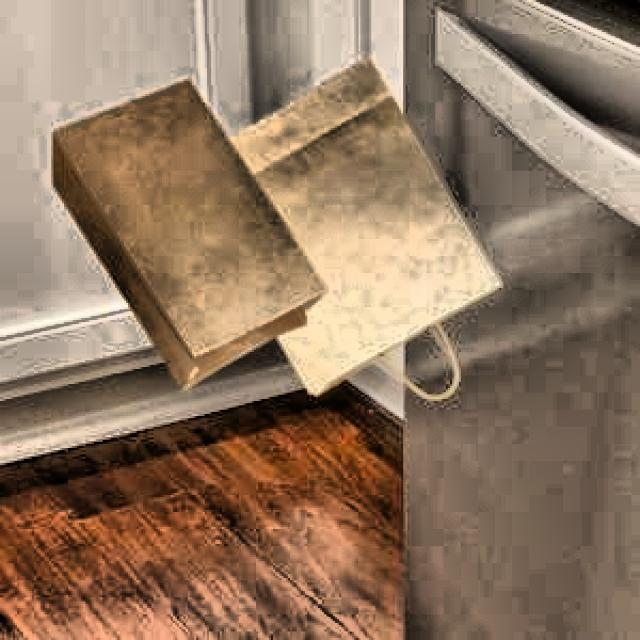Paper-bag: (180, 55, 502, 455), (44, 74, 322, 420)
